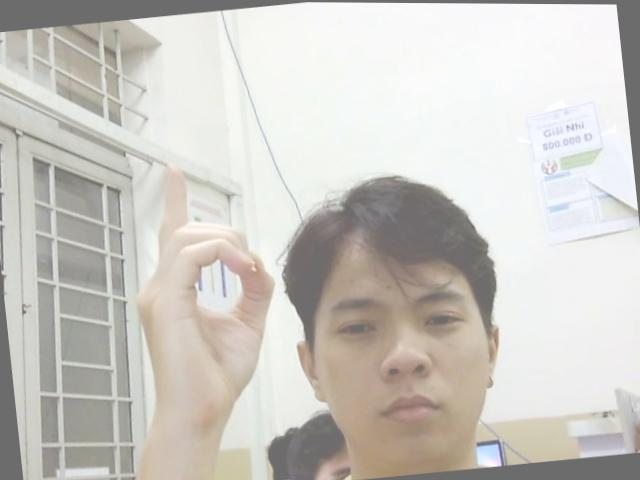D: (120, 152, 288, 427)
